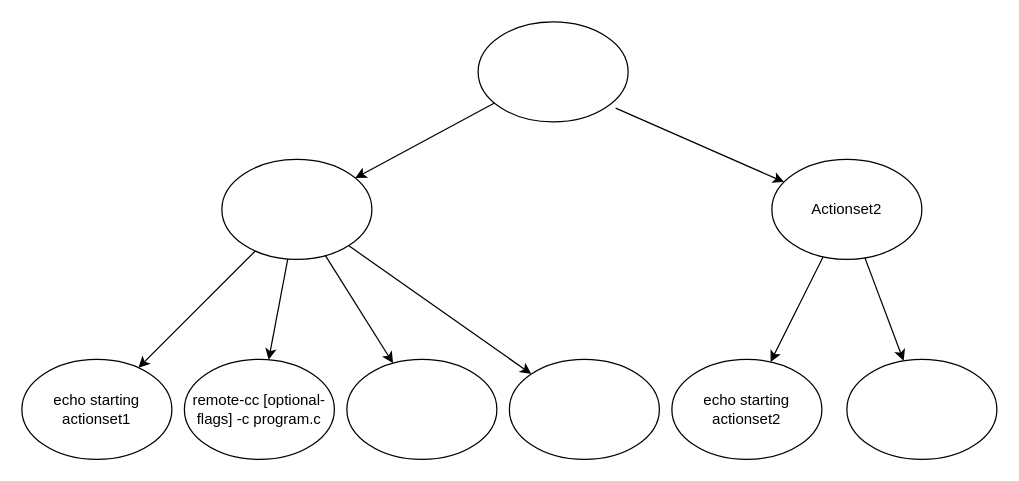
Some shapes in this 1019 by 481 pixel diagram are drawn without their labels. The shapes that lost their labels are listed below. From the top down, each one's box as (x1, y1, x2, y2) in pixels, then its label:
(477, 21, 628, 122): List (ROOT)
(221, 158, 372, 259): Actionset1
